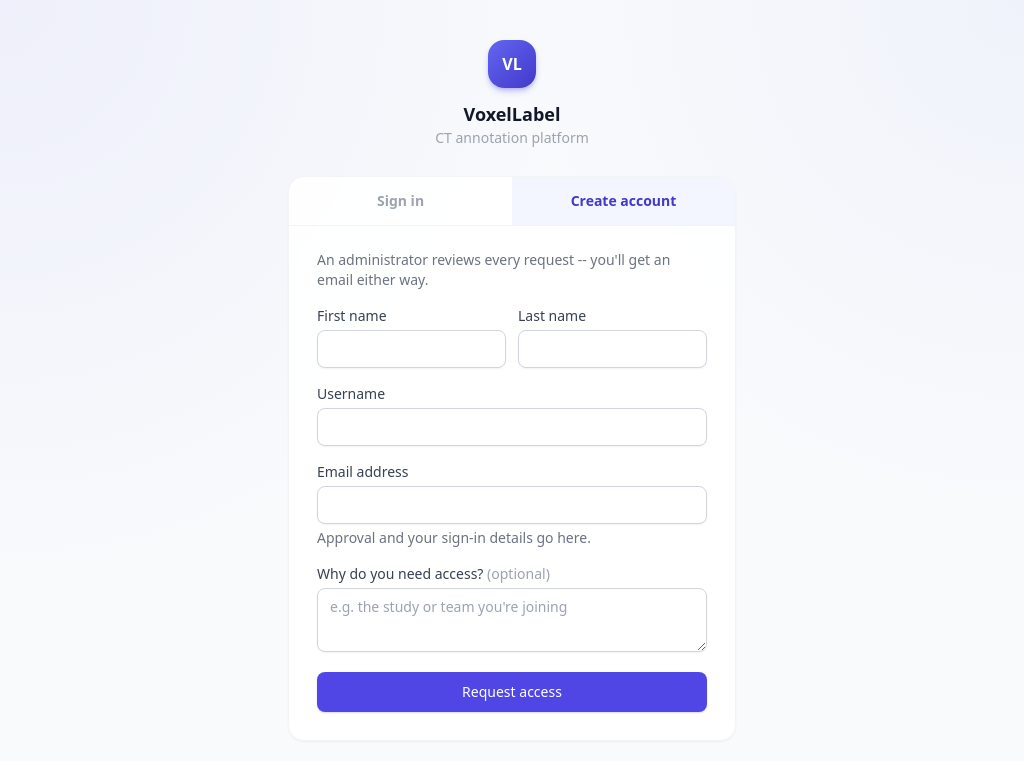
AuthPage create account › submits a request without any password and shows the sent state
Step 1. Type "New" into the field labelled "First name" → x=412, y=349, box [317,330,506,368]
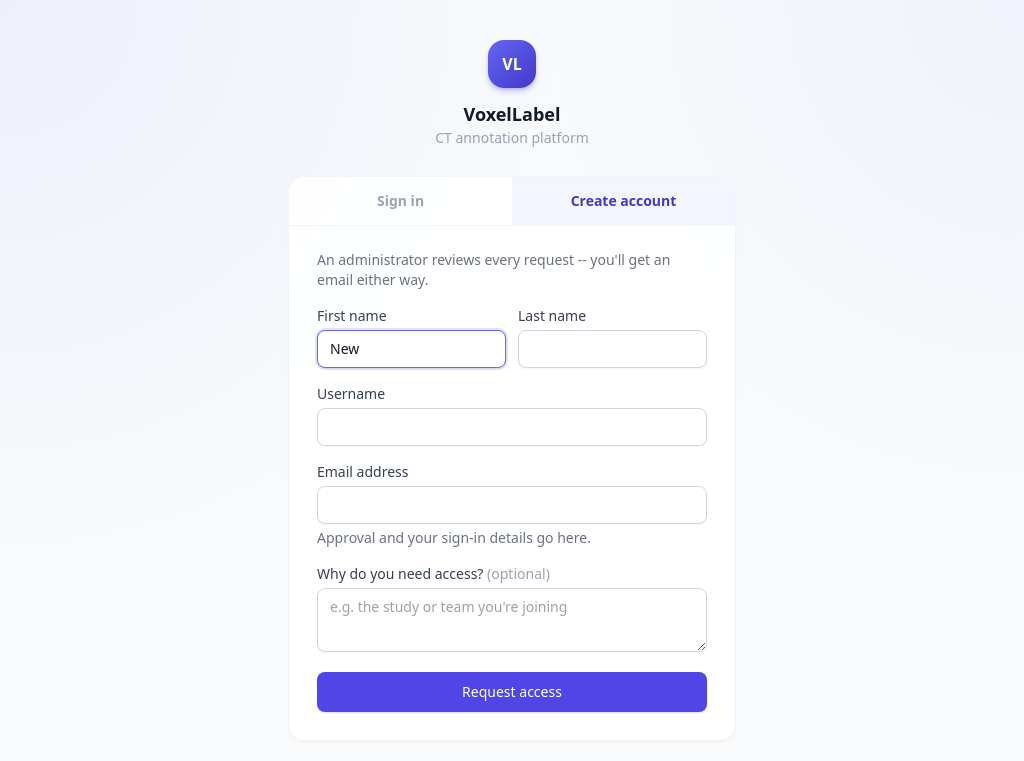
Step 2. Type "Doc" into the field labelled "Last name" → x=612, y=349, box [518,330,707,368]
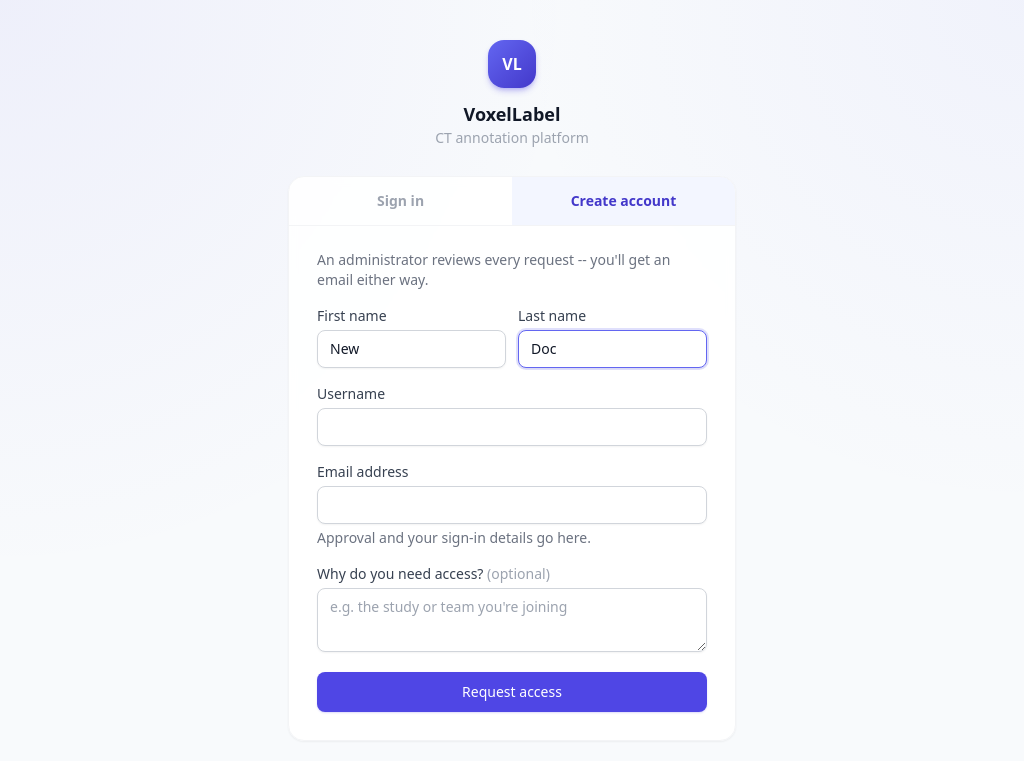
Step 3. Type "new.doc" into the field labelled "Username" → x=512, y=427, box [317,408,707,446]
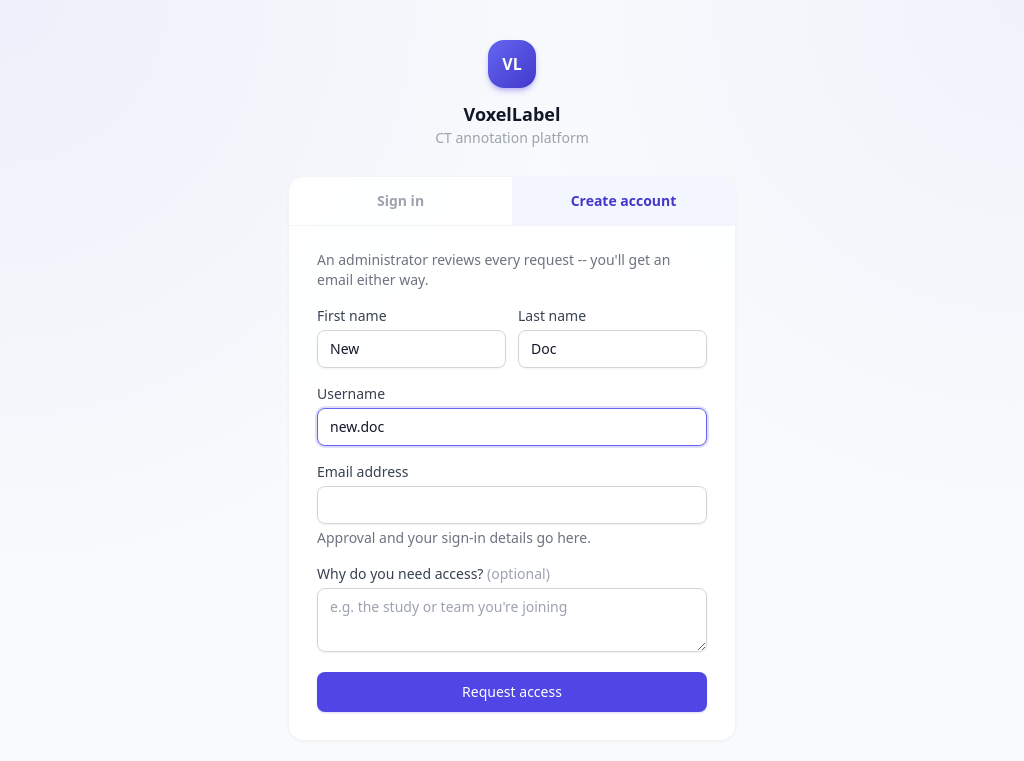
Step 4. Type "new@example.test" into the field labelled "Email address Approval and your sign-in details go here." → x=512, y=505, box [317,486,707,524]
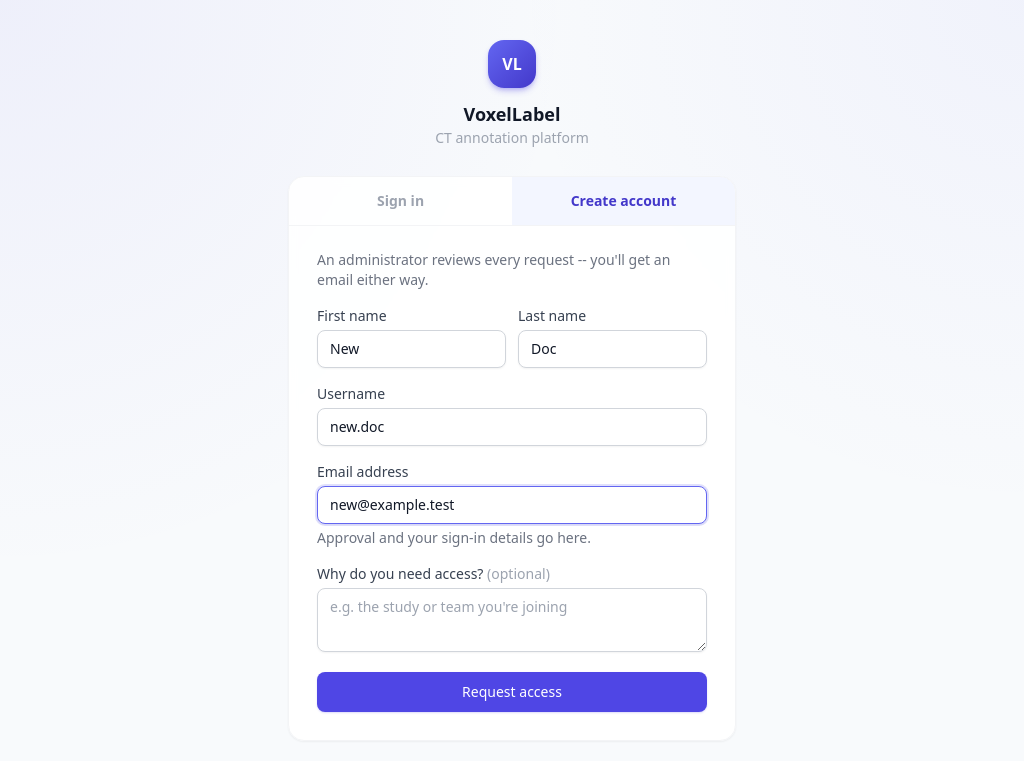
Step 5. Click the button with test id "register-submit" → x=512, y=692, box [317,672,707,712]
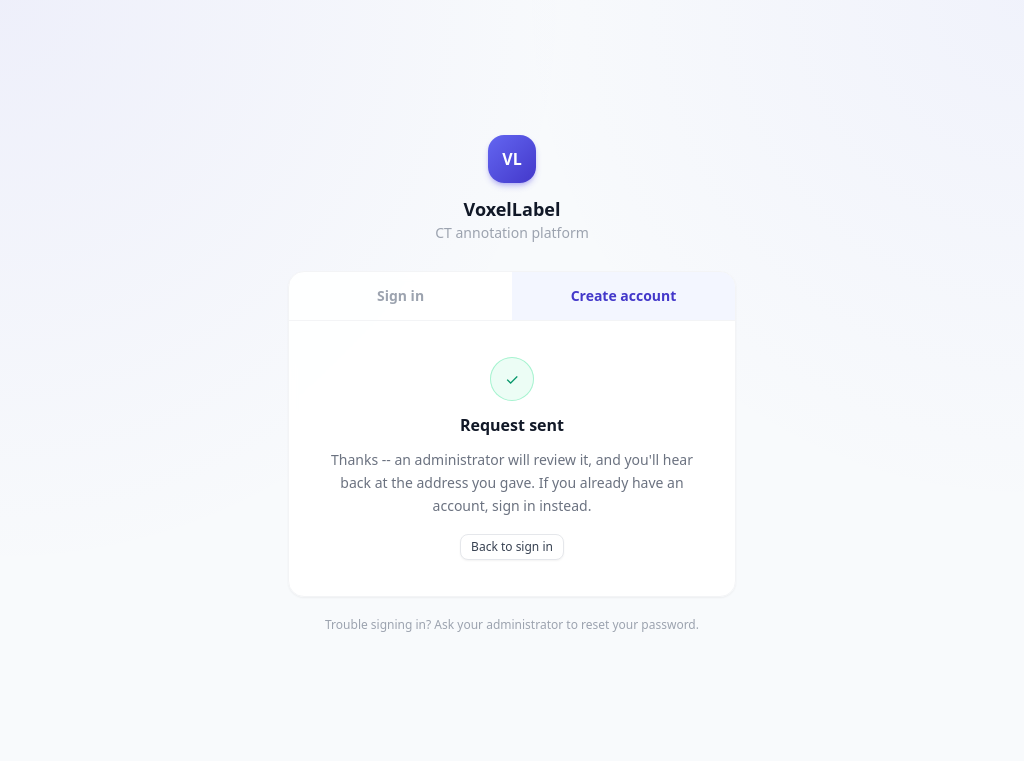
expect the heading "Request sent" is shown: met, box [460,413,564,437]
